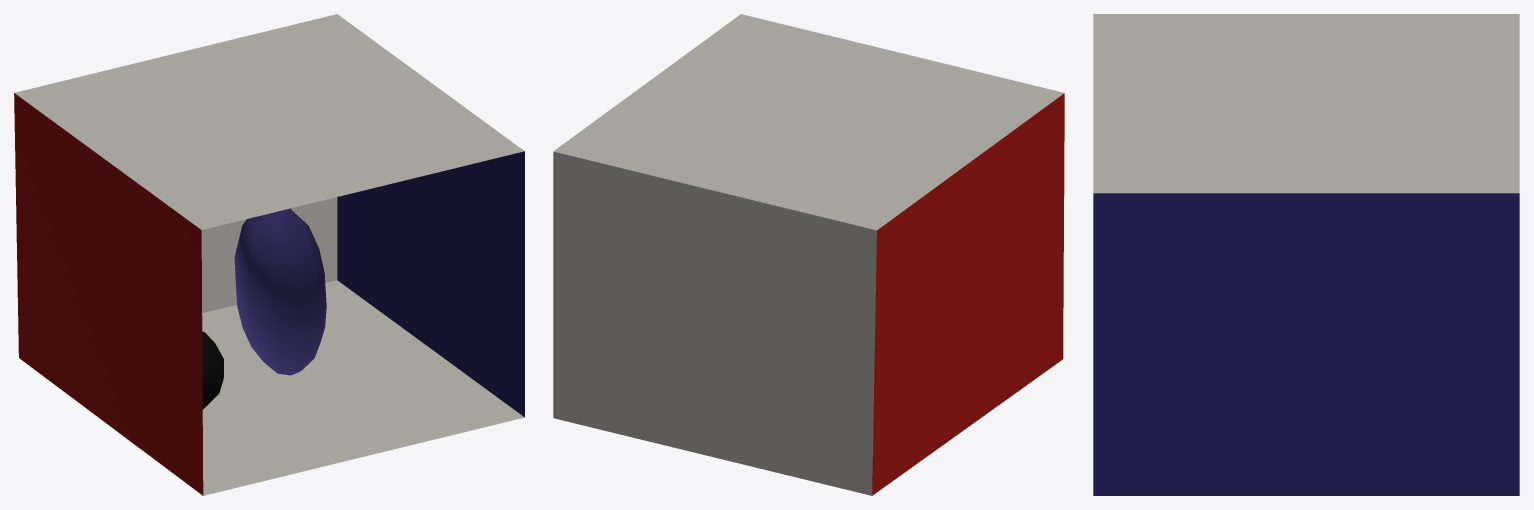
File: CornellBox-Ellipsoid-327.obj
The picture shows the model from 3 angles, left to right: view 1: azimuth 30°, elevation 25°; view 2: azimuth 150°, elevation 25°; view 3: azimuth 270°, elevation 25°; orthographic projection. The views are drawn at different scales.
Visible parts, largest first — view 1: ceiling, leftWall, floor, rightWall, leftSphere, backWall, rightSphere; view 2: backWall, ceiling, leftWall; view 3: rightWall, ceiling.
Boxes of the visible parts, x1,y1,x2,y2 form: ceiling: (14, 14, 524, 229); leftWall: (14, 93, 203, 495); floor: (202, 280, 524, 495); rightWall: (337, 151, 524, 417); leftSphere: (234, 208, 326, 375); backWall: (201, 197, 337, 312); rightSphere: (202, 331, 223, 409); backWall: (553, 151, 876, 495); ceiling: (553, 14, 1064, 230); leftWall: (872, 93, 1064, 495); rightWall: (1093, 193, 1519, 495); ceiling: (1093, 14, 1519, 193).
Size of the model in its own units: 2.02 by 1.59 by 2.03.
